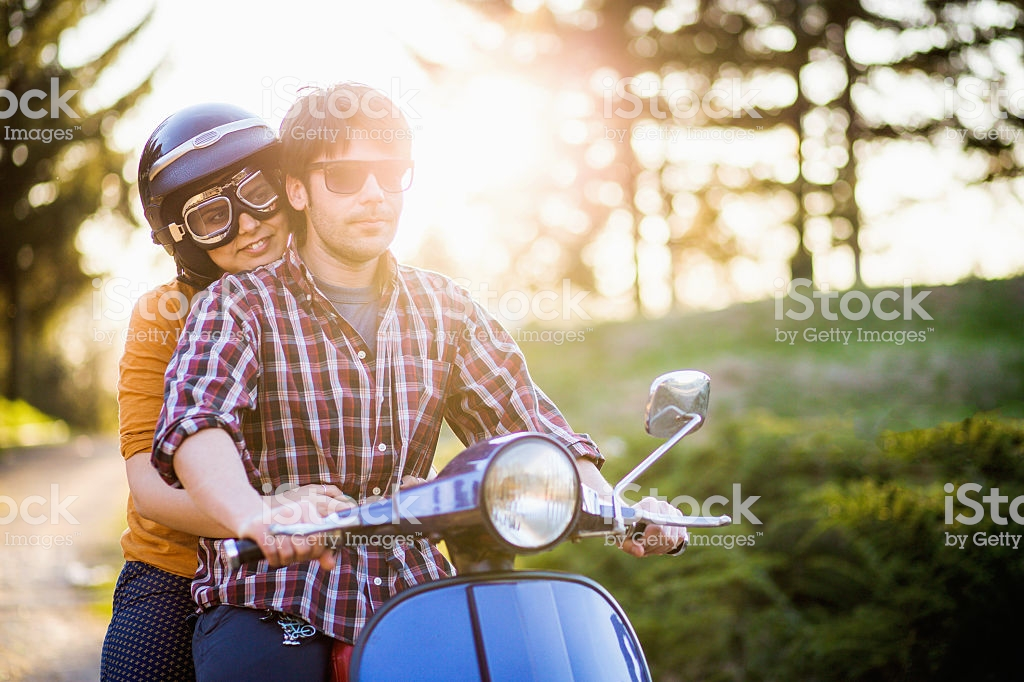helmet: (131, 103, 274, 200)
